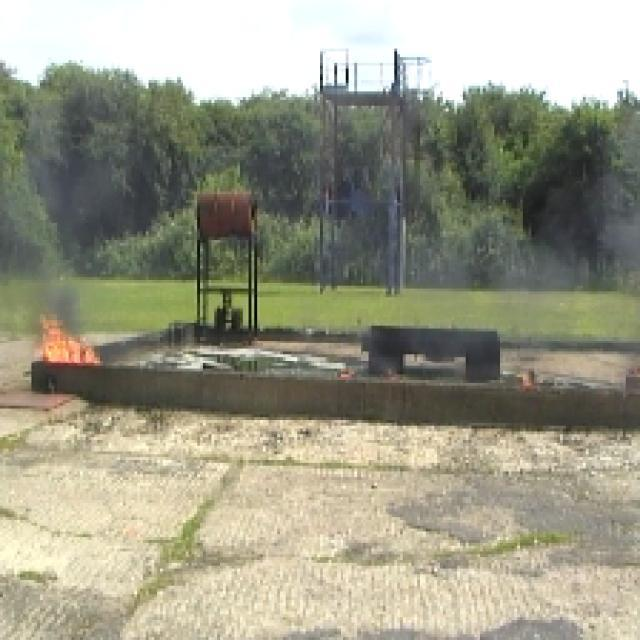Fire: (38, 311, 109, 367)
